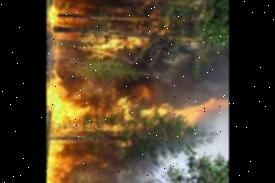fire: (46, 0, 175, 183)
